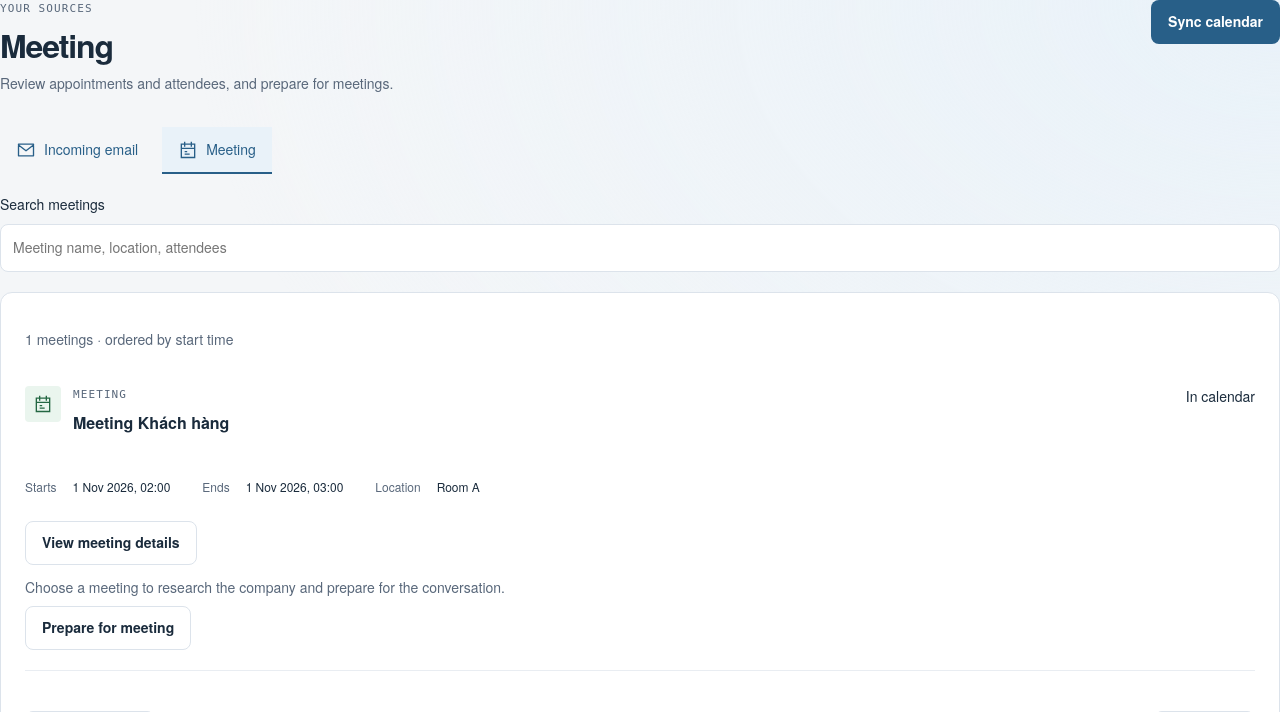
Test: inbox source workspace › renders English chrome and dates without translating source content
Expected: the heading "Meeting Khách hàng" is shown, [73,410,229,434]
Expected: the button "Sync calendar" is shown, [1151,0,1279,44]
Click the button "View meeting details".
click(111, 542)  # box [25,520,197,564]
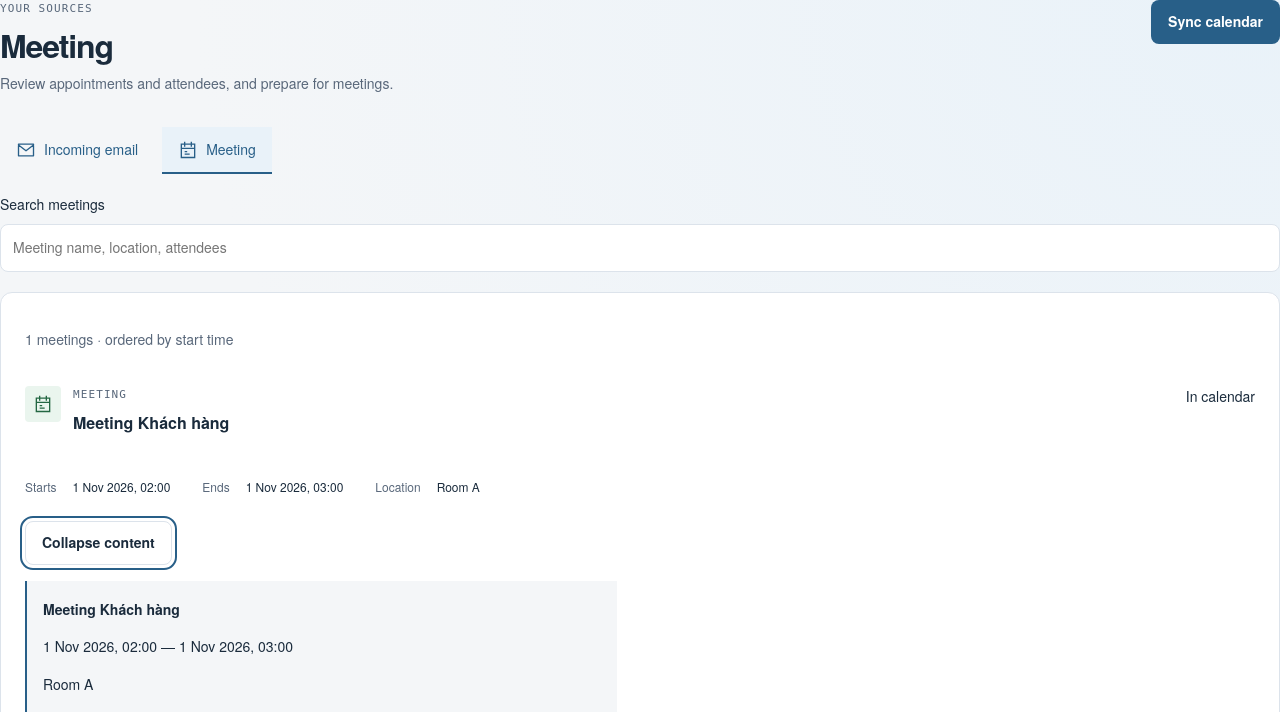
Now the button "Collapse content" is shown, box [25,520,172,564]
